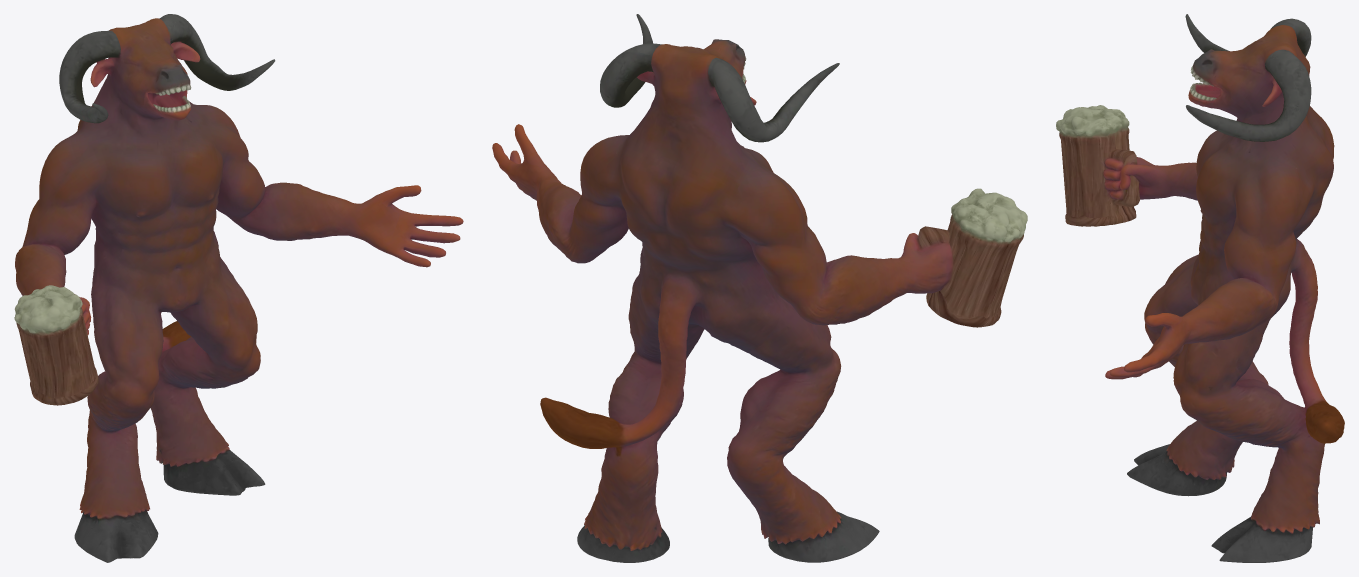
File: MZ4250 - Minotaur Drinking.glb
3 renders of one model, left to right at view 1: azimuth 30°, elevation 25°; view 2: azimuth 150°, elevation 25°; view 3: azimuth 270°, elevation 25°, orthographic. The views are drawn at different scales.
Visible parts, largest first — view 1: Minotaur Drinking_low.001; view 2: Minotaur Drinking_low.001; view 3: Minotaur Drinking_low.001.
Part boxes in pixels (box(x1,y1,x2,y2)): Minotaur Drinking_low.001: box(14, 14, 463, 562); Minotaur Drinking_low.001: box(492, 14, 1027, 562); Minotaur Drinking_low.001: box(1056, 14, 1344, 562).
Size of the model in its own units: 2.64 by 2.54 by 1.39.
Materials: 1 (1 with a texture image).
